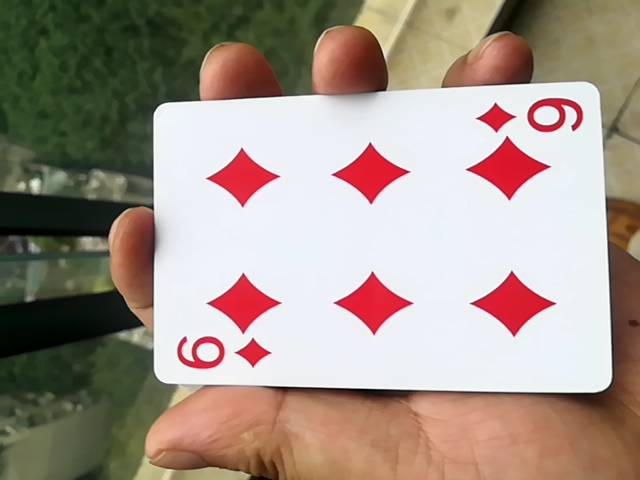fk 6: (135, 99, 613, 411)
